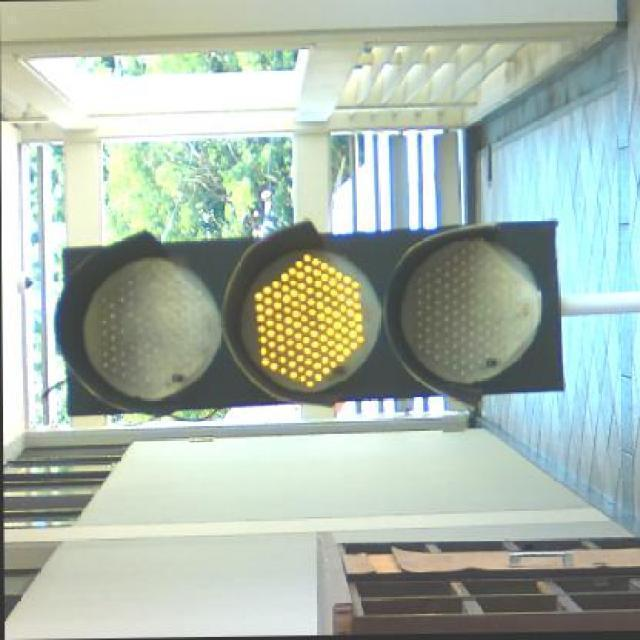yellow_light: (55, 221, 563, 415)
